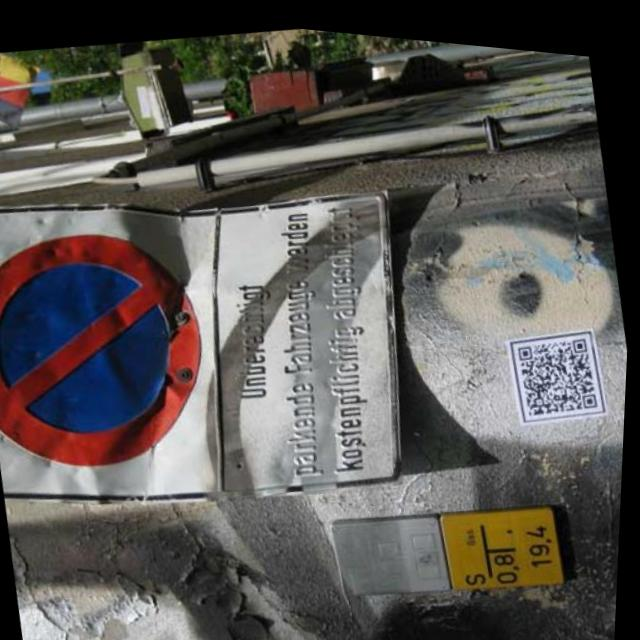qrcode: (519, 322, 602, 409)
